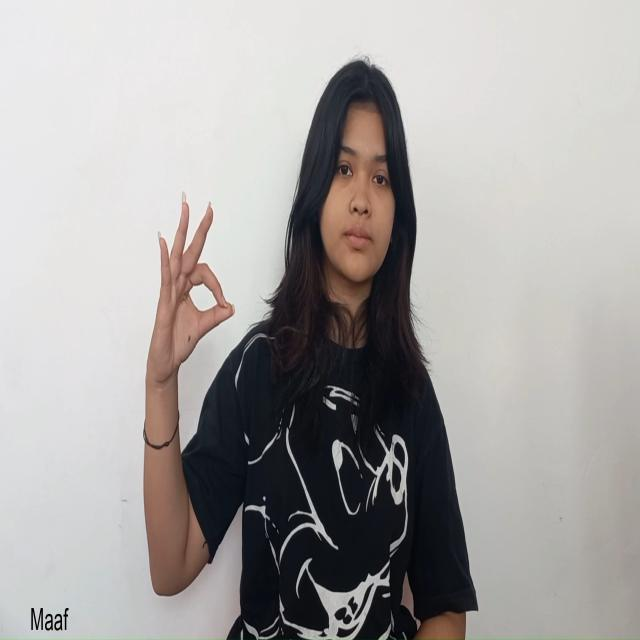Maaf -BISINDO-: (143, 186, 236, 414)
